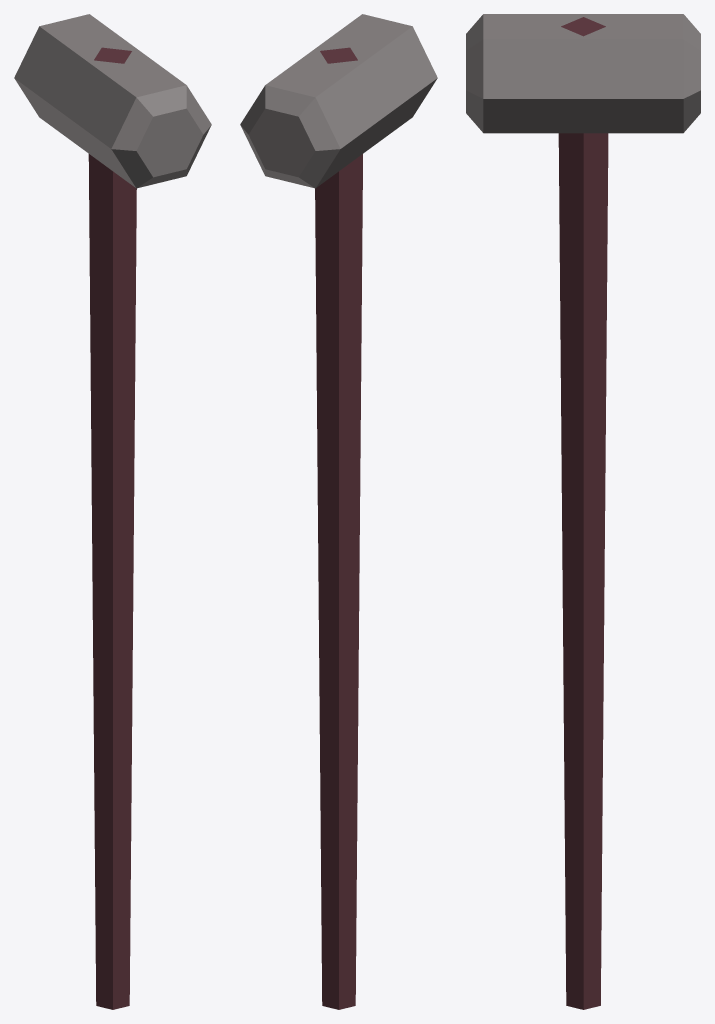
The model's file is tools-sledgehammer.glb.
3 renders of one model, left to right at view 1: azimuth 30°, elevation 25°; view 2: azimuth 150°, elevation 25°; view 3: azimuth 270°, elevation 25°, orthographic. The views are drawn at different scales.
Visible parts, largest first — view 1: sledgehammer; view 2: sledgehammer; view 3: sledgehammer.
Boxes of the visible parts, x1,y1,x2,y2 form: sledgehammer: (14, 14, 211, 1009); sledgehammer: (240, 14, 437, 1009); sledgehammer: (466, 14, 700, 1009).
Size of the model in its own units: 0.1005 by 0.9038 by 0.1974.
